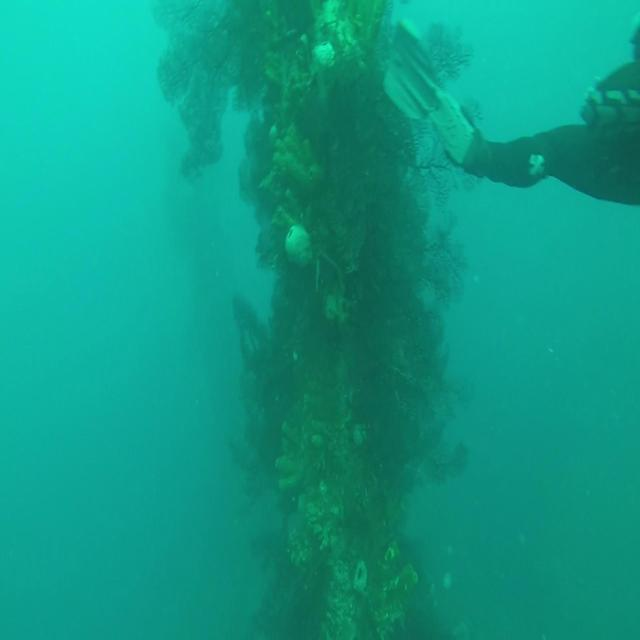human: (383, 17, 639, 206)
